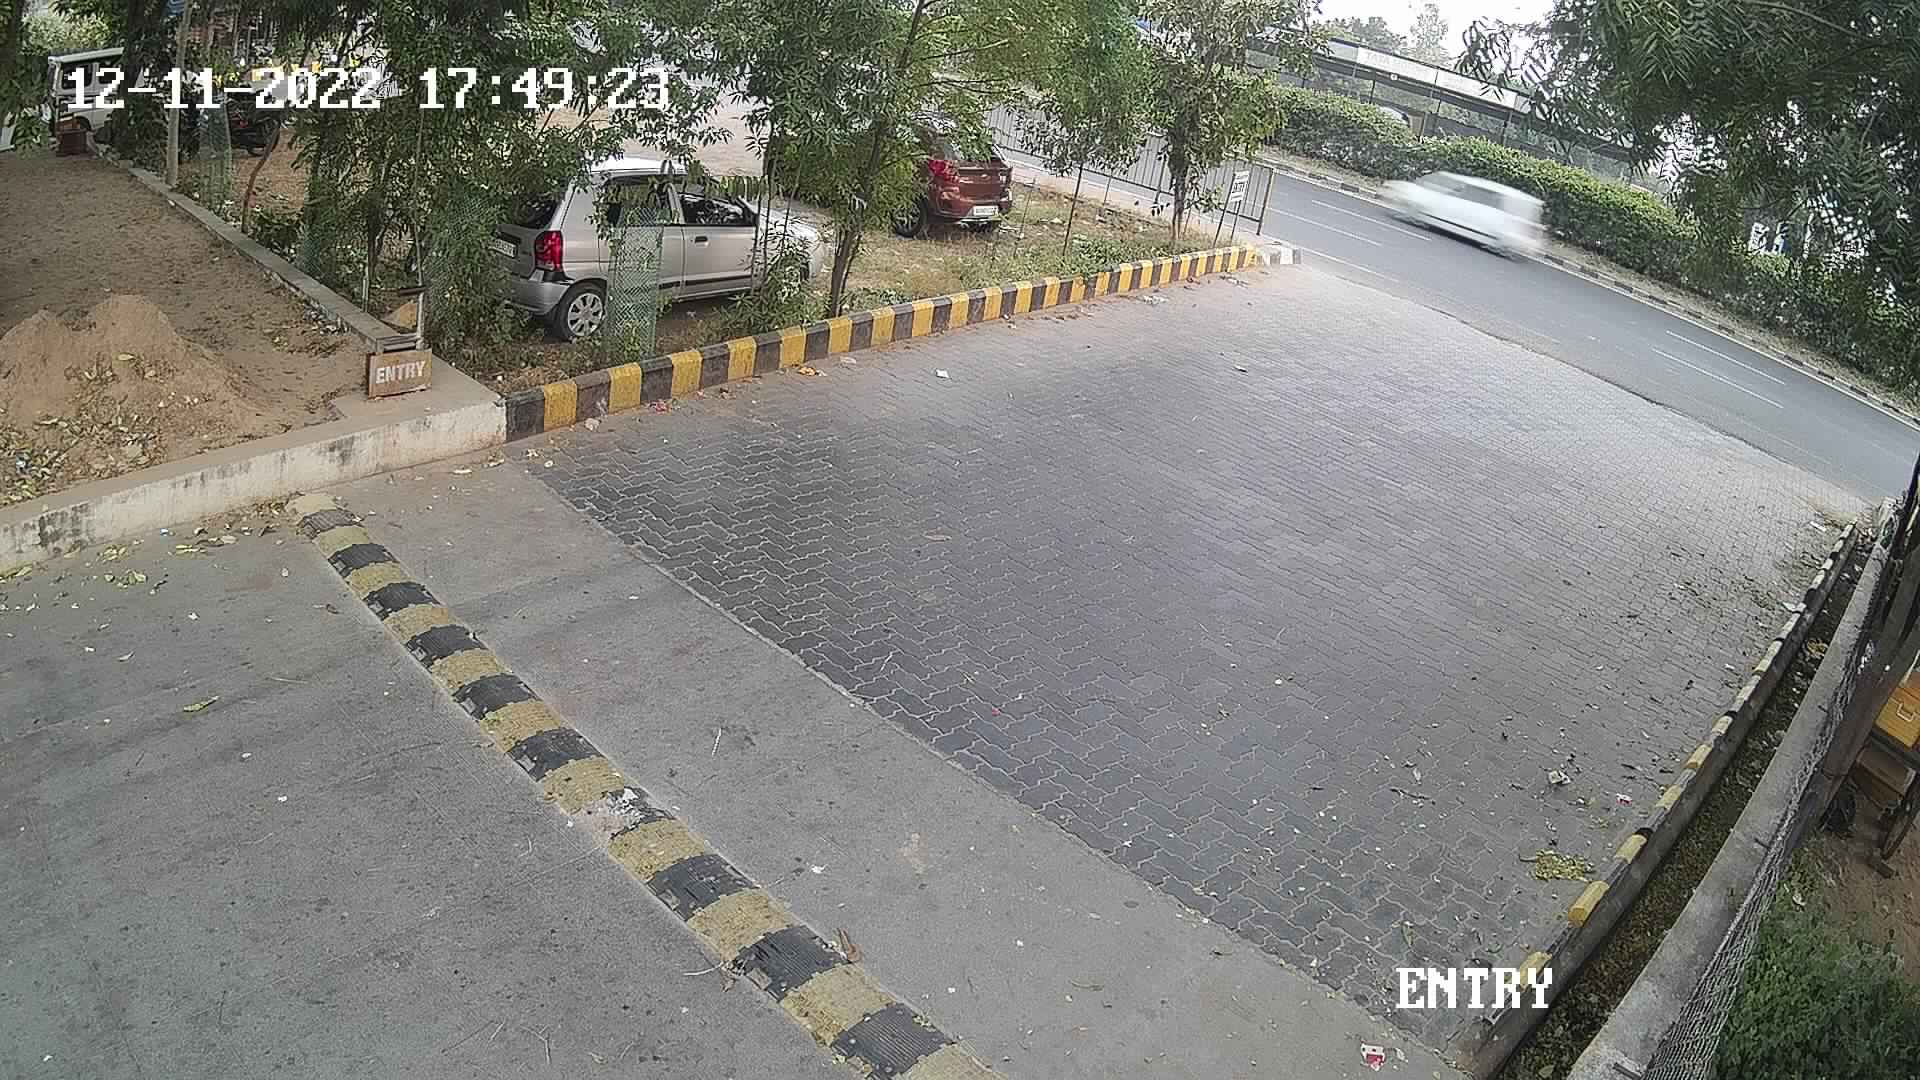Car: (433, 142, 822, 351), (868, 104, 1023, 247), (1371, 160, 1542, 266)
